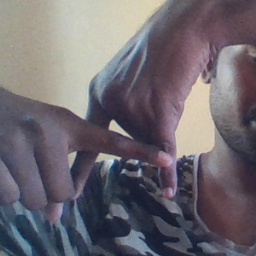H: (44, 76, 186, 205)
